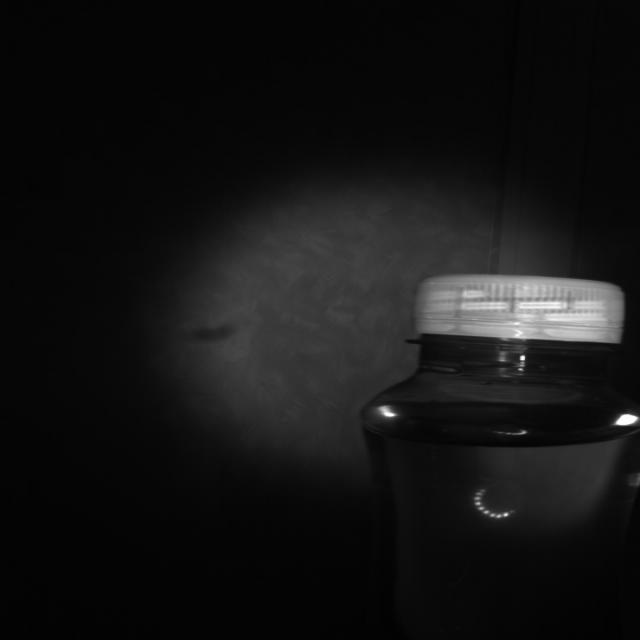Good: (412, 271, 632, 347)
